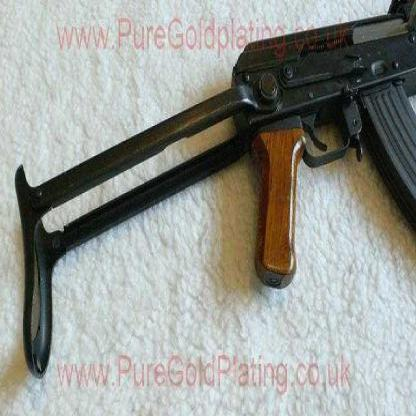rifle: (6, 11, 415, 383)
